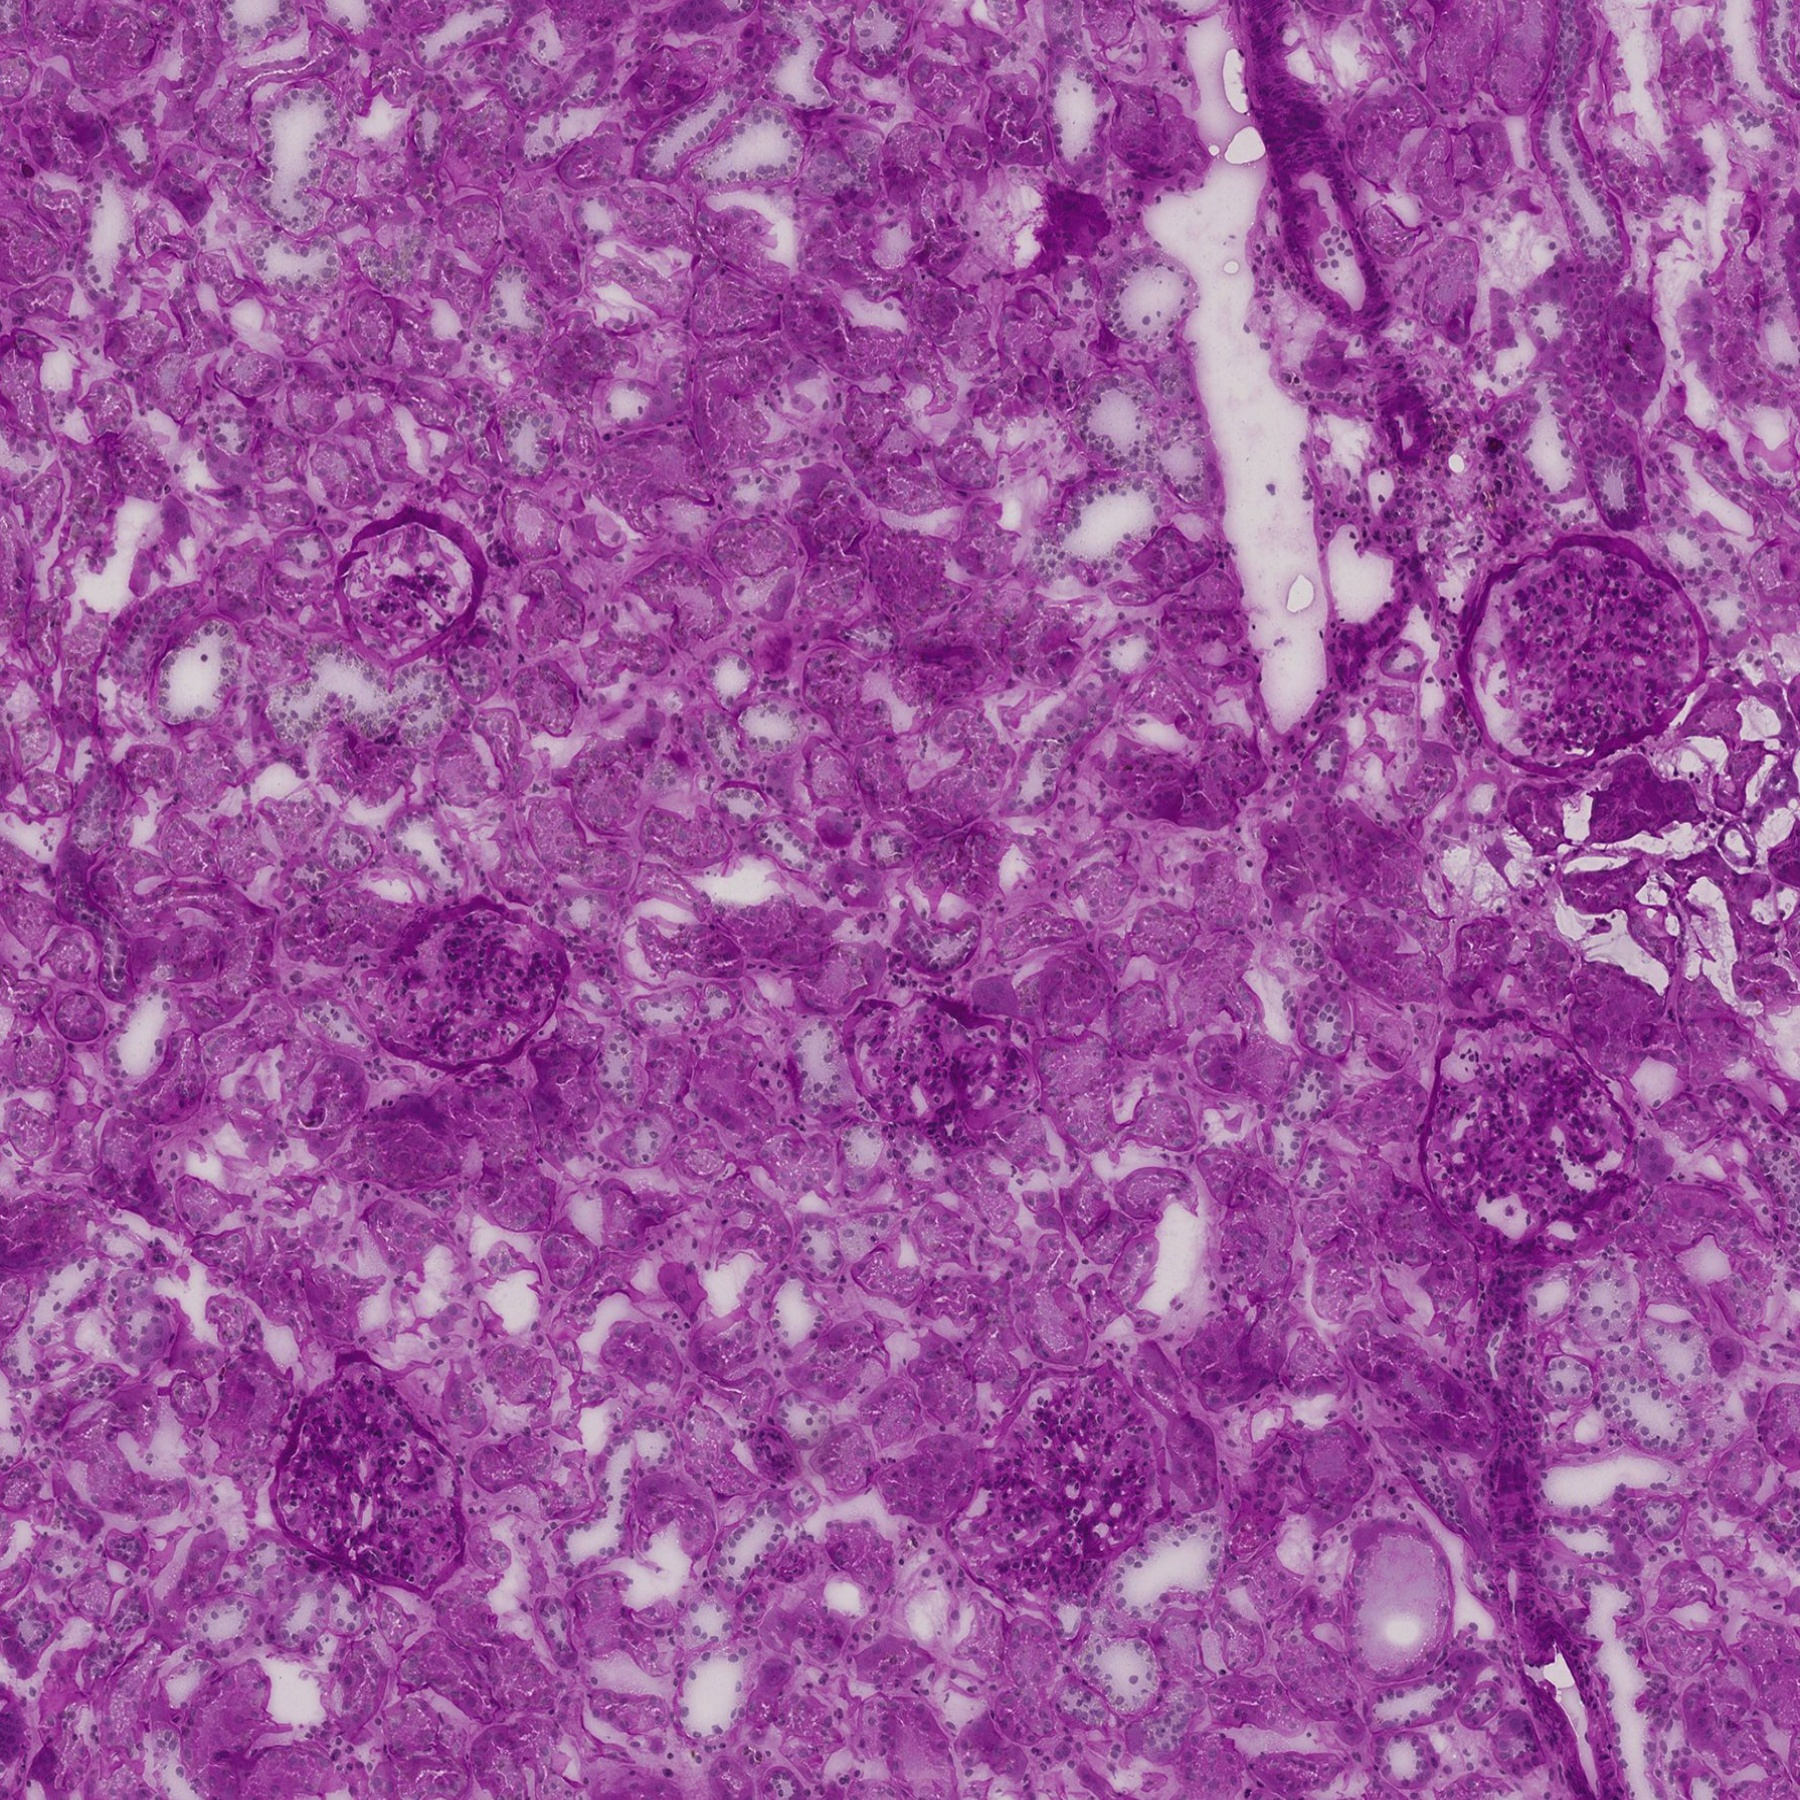Glomeruli: (1465, 527, 1708, 781), (1414, 1009, 1642, 1269), (949, 1362, 1174, 1615), (265, 1348, 468, 1601), (368, 898, 572, 1070), (846, 987, 1045, 1142), (330, 518, 483, 669)
